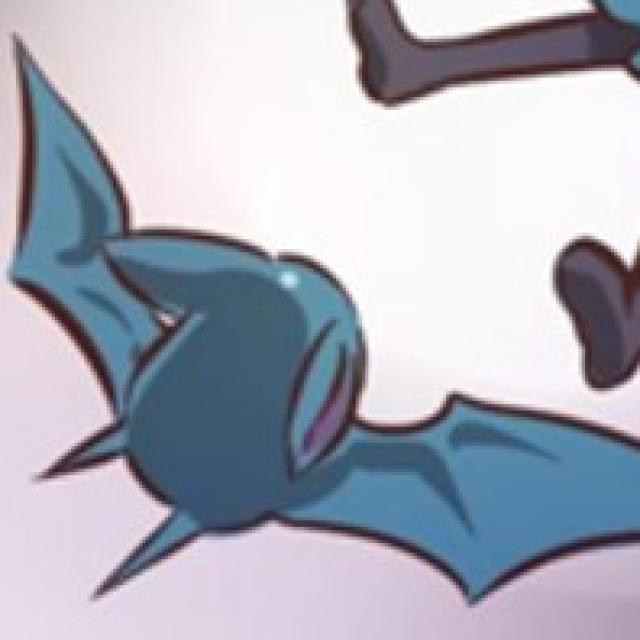Zubat: (0, 222, 498, 604)
